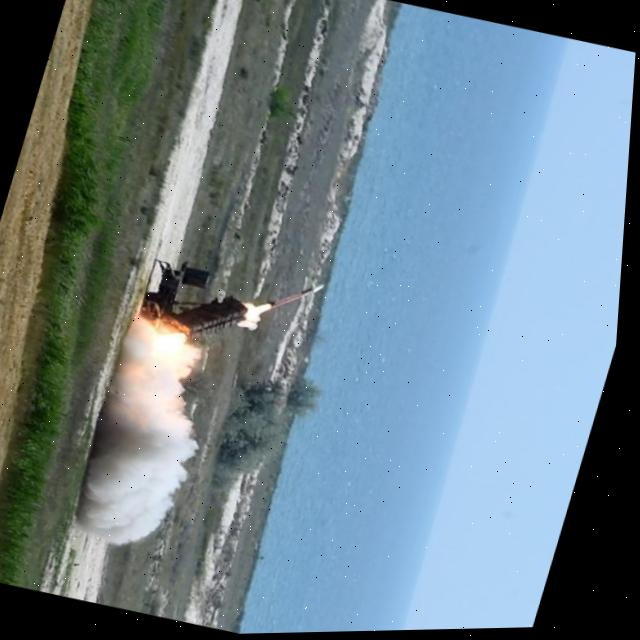missile: (258, 265, 338, 330)
